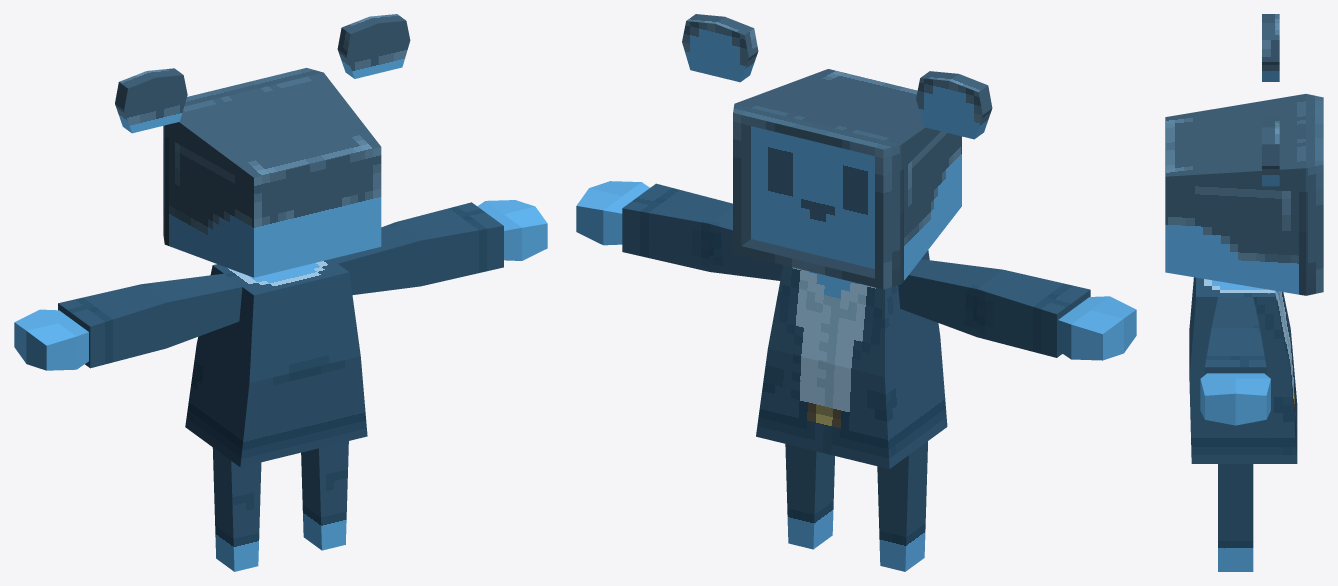
File: widi2.gltf
3 views of the same model, side by side, from view 1: azimuth 30°, elevation 25°; view 2: azimuth 150°, elevation 25°; view 3: azimuth 270°, elevation 25° (orthographic). The views are drawn at different scales.
Visible parts, largest first — view 1: cuboid (×12); view 2: cuboid (×12); view 3: cuboid (×8).
Boxes of the visible parts, x1=… form: cuboid (×12): x1=14, y1=14, x2=547, y2=571; cuboid (×12): x1=576, y1=14, x2=1136, y2=571; cuboid (×8): x1=1165, y1=14, x2=1323, y2=571.
Bounding box in the file's own units: 2 × 1.84 × 0.5625.
1 material, 1 textured.
